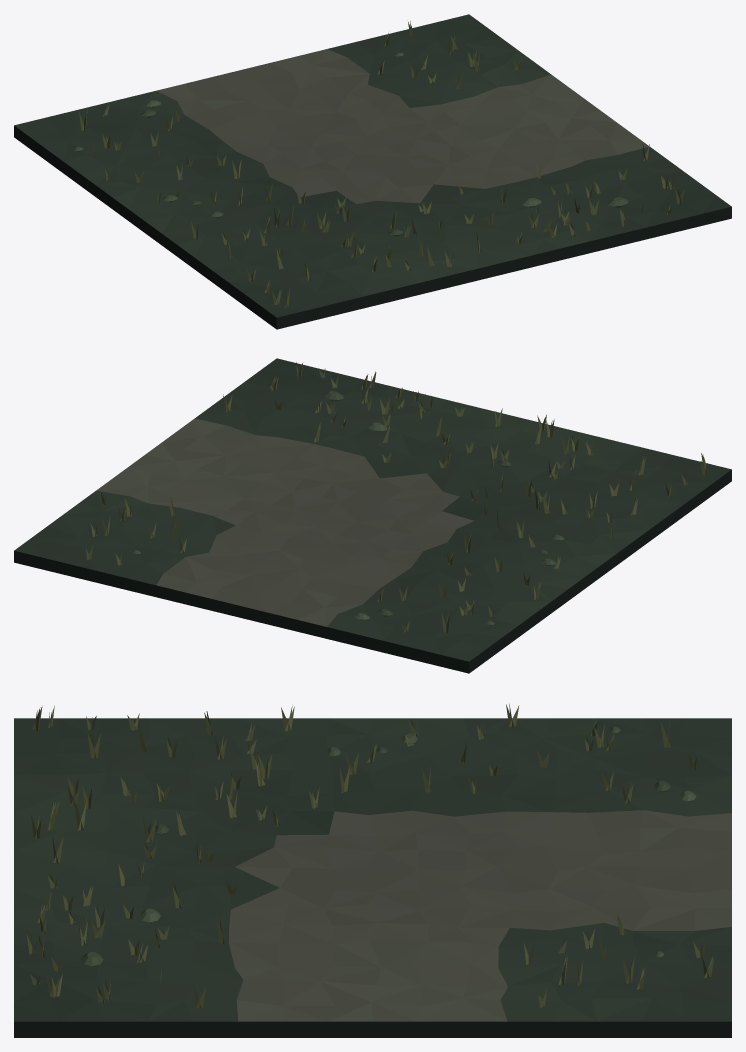
File: CHUNK_dark_canopy_forest__windthrow_patch.glb
3 renders of one model, top to bottom at view 1: azimuth 30°, elevation 25°; view 2: azimuth 150°, elevation 25°; view 3: azimuth 270°, elevation 25°, orthographic. The views are drawn at different scales.
Visible parts, largest first — view 1: CHUNK_dark_canopy_forest__windthrow_patch; view 2: CHUNK_dark_canopy_forest__windthrow_patch; view 3: CHUNK_dark_canopy_forest__windthrow_patch.
Boxes of the visible parts, x1=… form: CHUNK_dark_canopy_forest__windthrow_patch: x1=14, y1=14, x2=731, y2=329; CHUNK_dark_canopy_forest__windthrow_patch: x1=14, y1=358, x2=731, y2=673; CHUNK_dark_canopy_forest__windthrow_patch: x1=14, y1=704, x2=731, y2=1037.
Bounding box in the file's own units: 8 × 0.5657 × 8.
